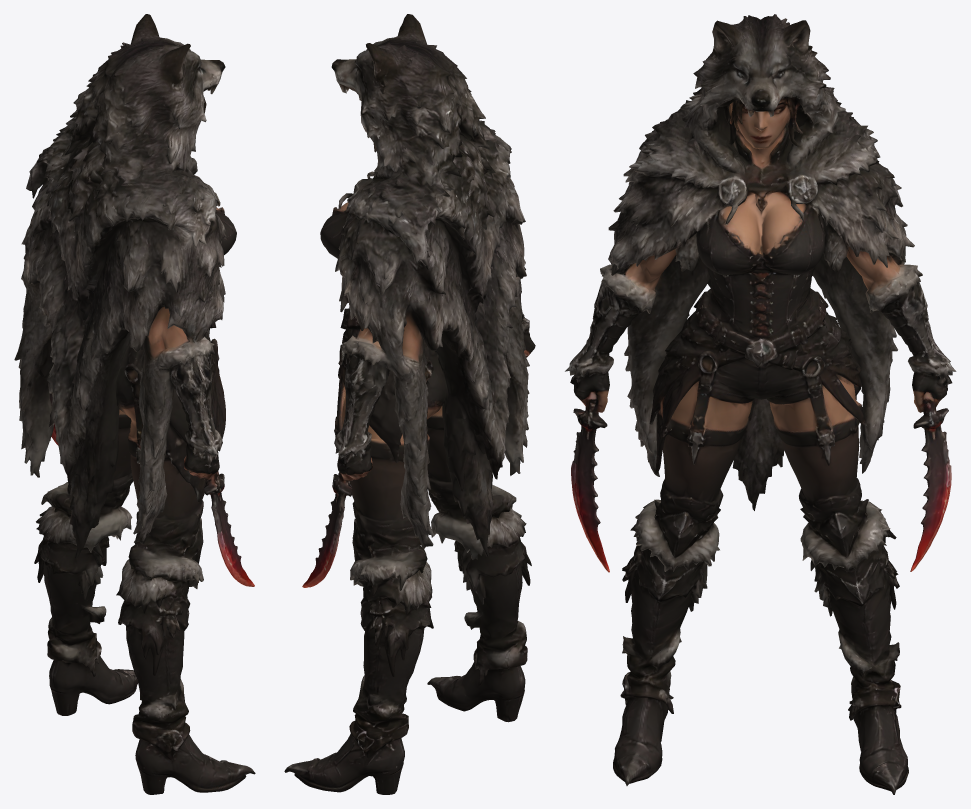
The model's file is kestrel-GreyjawPelt-tripo.glb.
3 views of the same model, side by side, from view 1: azimuth 30°, elevation 25°; view 2: azimuth 150°, elevation 25°; view 3: azimuth 270°, elevation 25° (orthographic). The views are drawn at different scales.
Parts seen in each view (by area): view 1: tripo_node_c7a3ef53-4199-4d1c-aaf8-db717618bb87; view 2: tripo_node_c7a3ef53-4199-4d1c-aaf8-db717618bb87; view 3: tripo_node_c7a3ef53-4199-4d1c-aaf8-db717618bb87.
Boxes of the visible parts, box(x1,y1,x2,y2) form: tripo_node_c7a3ef53-4199-4d1c-aaf8-db717618bb87: box(14, 14, 255, 794); tripo_node_c7a3ef53-4199-4d1c-aaf8-db717618bb87: box(284, 14, 535, 794); tripo_node_c7a3ef53-4199-4d1c-aaf8-db717618bb87: box(565, 14, 956, 794).
Bounding box in the file's own units: 0.2461 × 1 × 0.4692.
1 material, 1 textured.
